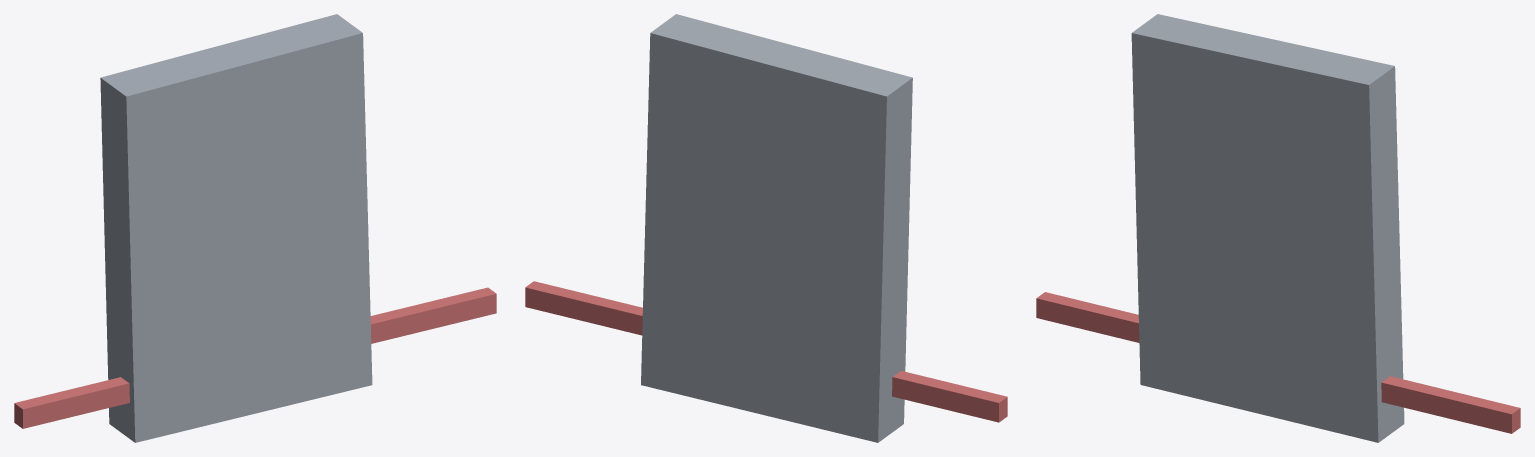
Rendered from utility_intrusion.glb.
3 renders of one model, left to right at view 1: azimuth 30°, elevation 25°; view 2: azimuth 150°, elevation 25°; view 3: azimuth 330°, elevation 25°, orthographic.
Parts seen in each view (by area): view 1: geometry_0, geometry_1; view 2: geometry_0, geometry_1; view 3: geometry_0, geometry_1.
Part boxes in pixels (x1,y1,x2,y2): geometry_0: (100,14,372,442); geometry_1: (14,287,496,428); geometry_0: (641,14,912,442); geometry_1: (525,281,1007,422); geometry_0: (1131,14,1404,442); geometry_1: (1036,292,1520,433).
Size of the model in its own units: 31.66 by 22.62 by 3.
